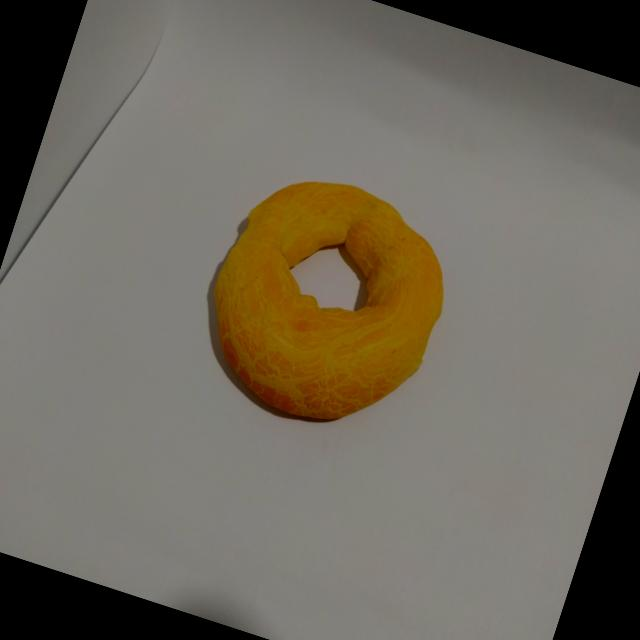Chipa: (165, 144, 484, 462)
